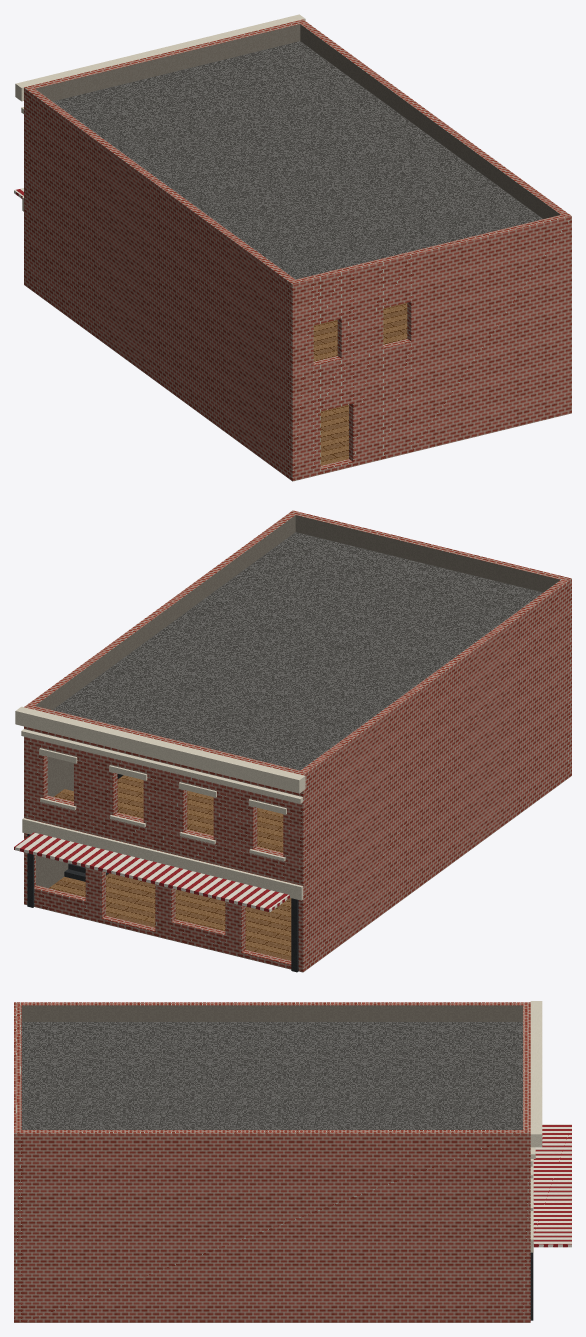
The model's file is main_street_red_12m_2st.glb.
3 views of the same model, one above another, from view 1: azimuth 30°, elevation 25°; view 2: azimuth 150°, elevation 25°; view 3: azimuth 270°, elevation 25° (orthographic). The views are drawn at different scales.
Parts seen in each view (by area): view 1: main_street_red_12m_2st; view 2: main_street_red_12m_2st; view 3: main_street_red_12m_2st.
Part boxes in pixels (x1,y1,x2,y2): main_street_red_12m_2st: (14,14,571,481); main_street_red_12m_2st: (14,510,571,972); main_street_red_12m_2st: (14,1001,571,1322).
Bounding box in the file's own units: 12.2 × 8.1 × 21.6.
Materials: 7 (7 with a texture image).
